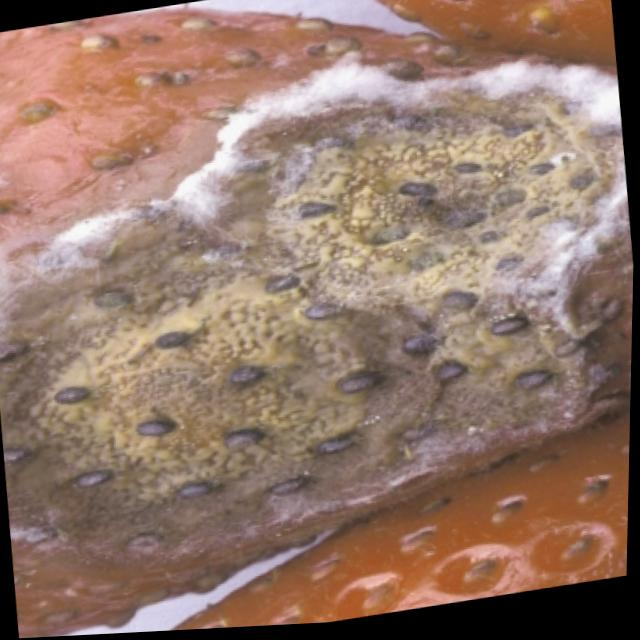Anthracnose Fruit Rot: (0, 42, 635, 625)
